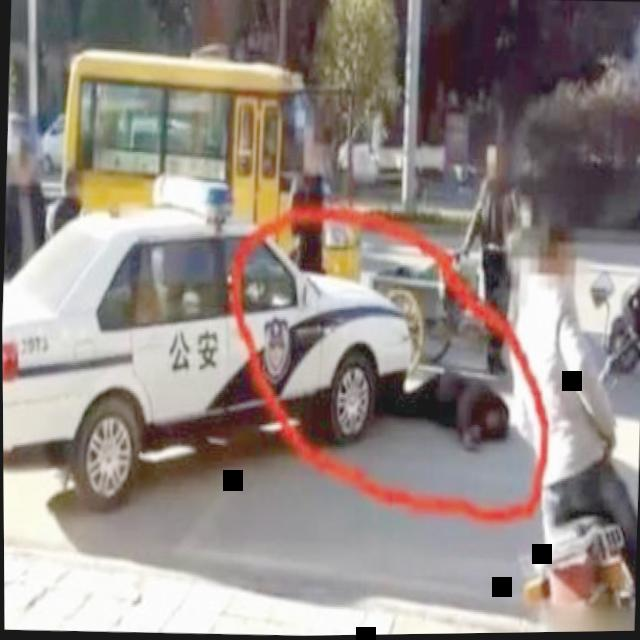Fall-Detected: (353, 338, 520, 460)
